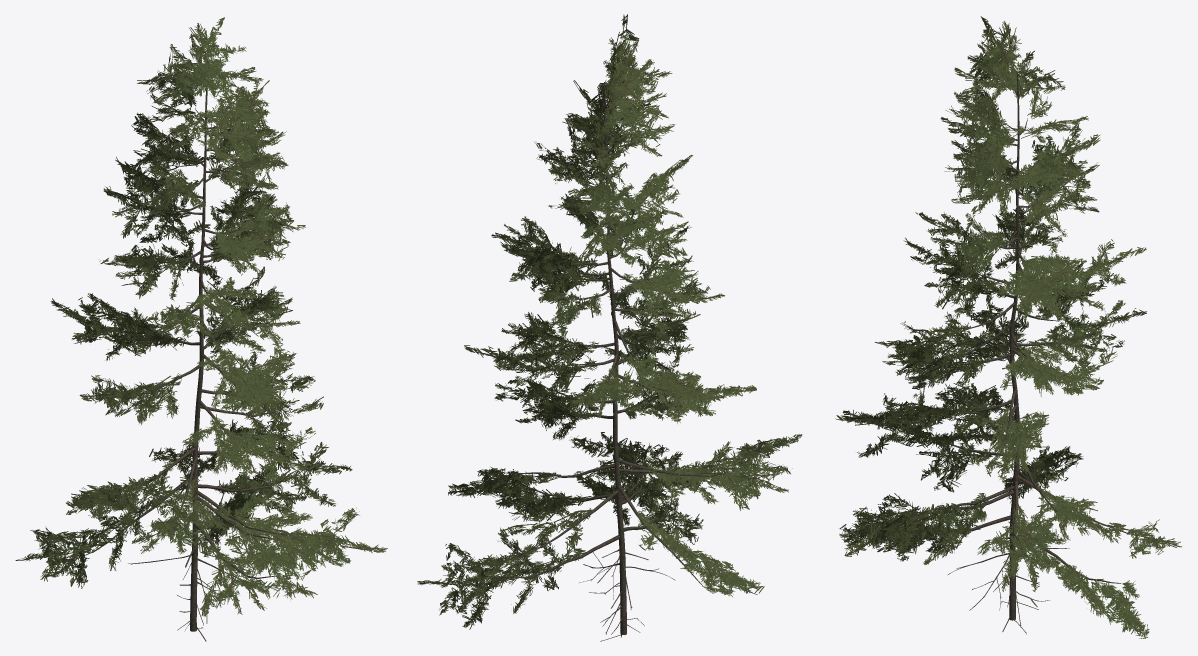
3 renders of one model, left to right at view 1: azimuth 30°, elevation 25°; view 2: azimuth 150°, elevation 25°; view 3: azimuth 270°, elevation 25°, orthographic. The views are drawn at different scales.
Parts seen in each view (by area): view 1: fir_sapling_medium__b_lod0; view 2: fir_sapling_medium__b_lod0; view 3: fir_sapling_medium__b_lod0.
Part boxes in pixels (bbox=[...]): fir_sapling_medium__b_lod0: bbox=[15, 17, 387, 641]; fir_sapling_medium__b_lod0: bbox=[417, 14, 802, 641]; fir_sapling_medium__b_lod0: bbox=[835, 16, 1181, 638].
Bounding box in the file's own units: 4.28 × 7.81 × 4.
Materials: 2 (2 with a texture image).
